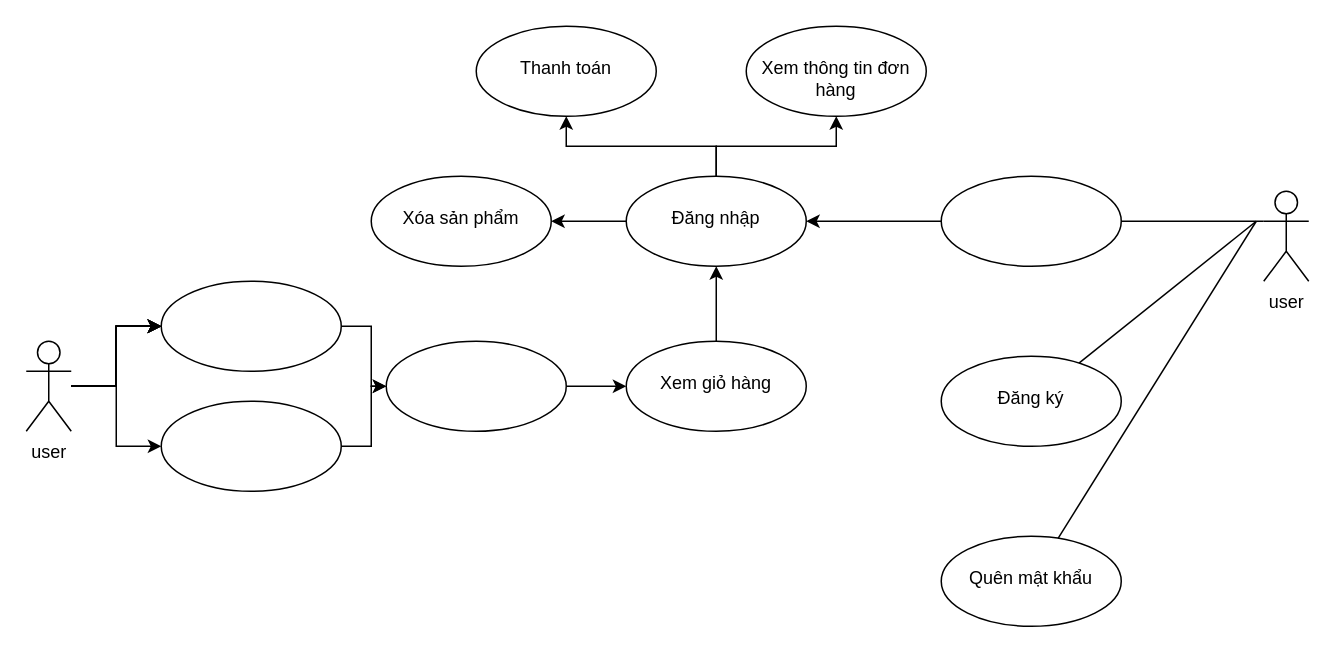
This 1335x653 diagram has some shape labels left out. The shapes that lost their labels are listed below. From the top down, each one's centre as x and y in pixels, then its label:
At (x=1030, y=220): "Đăng xuất".
At (x=250, y=325): "Xem sản phẩm".
At (x=475, y=385): "Thêm vào giỏ hàng".
At (x=250, y=445): "Tìm kiếmsản phẩm".
